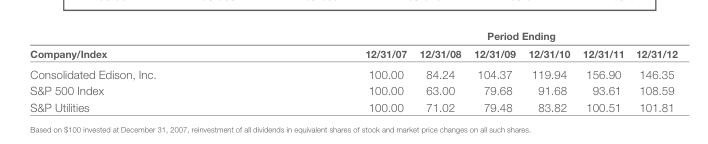table: (29, 29, 676, 113)
table column: (29, 29, 260, 113), (260, 29, 412, 113), (466, 29, 521, 113), (412, 29, 466, 113), (521, 29, 575, 113), (575, 29, 629, 113), (629, 29, 676, 113)
table column header: (29, 29, 676, 63)
table row: (29, 44, 676, 63), (29, 63, 676, 81), (29, 81, 676, 98), (29, 29, 676, 44), (29, 98, 676, 113)
table spanning cell: (29, 29, 260, 63), (260, 29, 676, 44)
